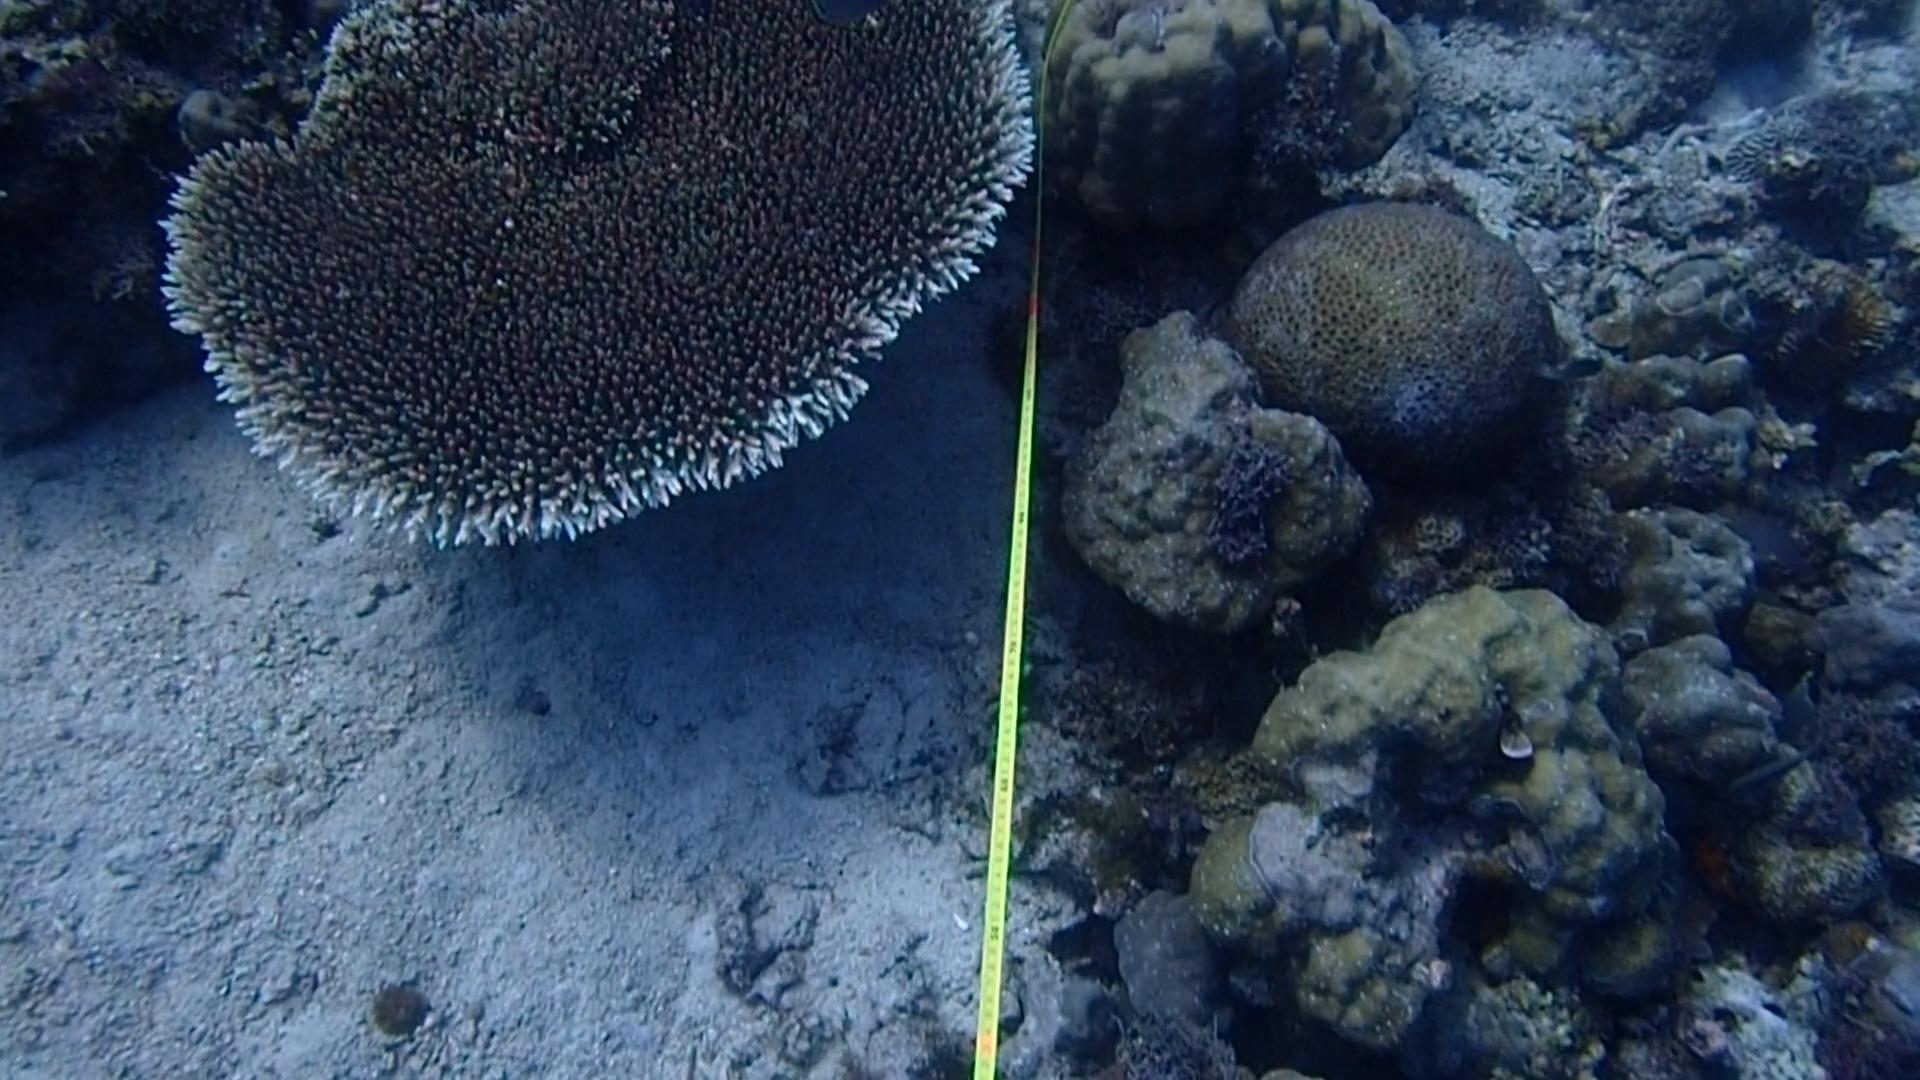Light Fish: (1724, 717, 1838, 803), (1523, 340, 1615, 397)
